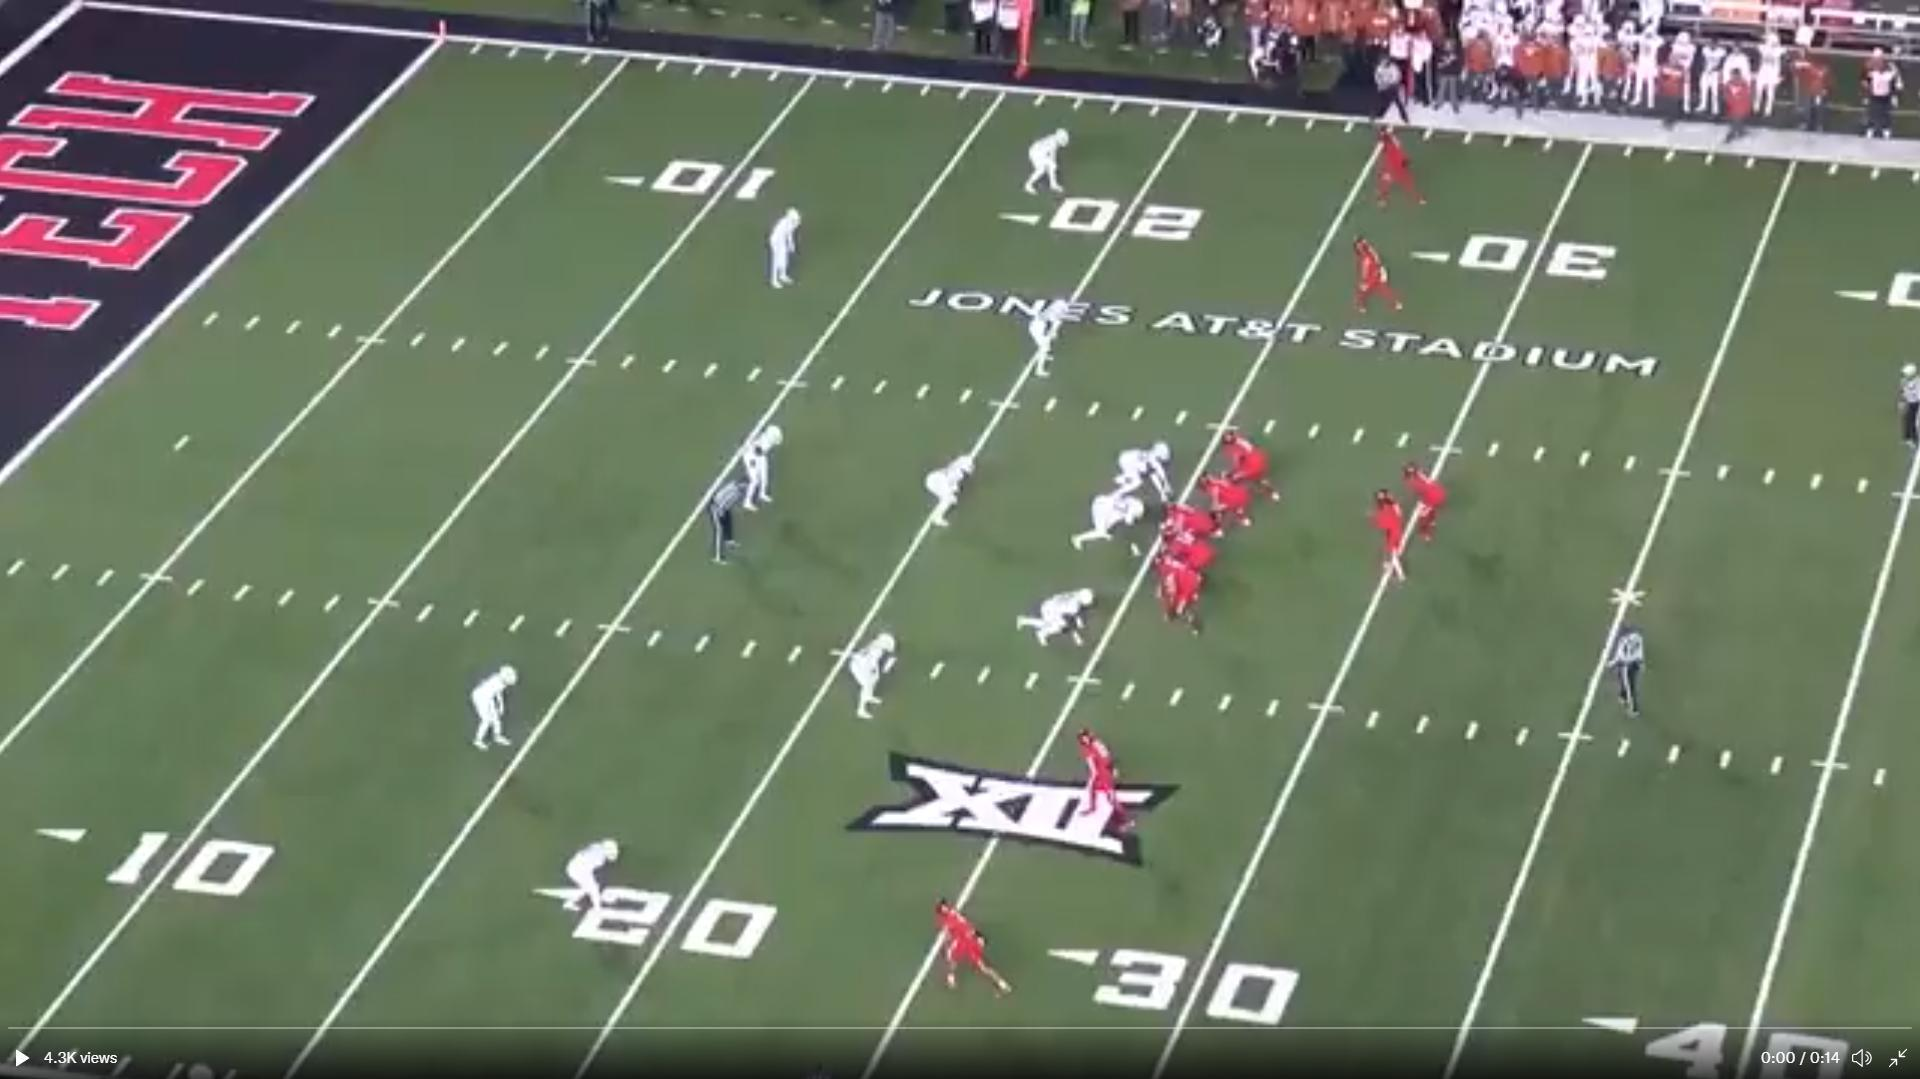player: (928, 895, 1014, 1000), (565, 835, 628, 936), (1016, 586, 1098, 655), (1070, 725, 1126, 826), (1370, 125, 1430, 216), (843, 628, 900, 722), (729, 422, 786, 516), (474, 663, 531, 756), (1349, 236, 1408, 323), (1226, 427, 1285, 504), (1070, 494, 1148, 552), (1372, 487, 1413, 595), (1111, 438, 1177, 505), (1152, 552, 1202, 640), (922, 452, 978, 529), (1400, 457, 1448, 546), (1024, 297, 1073, 383), (762, 203, 806, 293), (1022, 127, 1076, 200), (1194, 471, 1254, 534), (1167, 504, 1220, 570), (1162, 522, 1214, 577)
ref: (1598, 620, 1653, 732), (705, 473, 754, 570), (1371, 55, 1414, 132), (1895, 355, 1920, 453), (589, 0, 626, 49)
